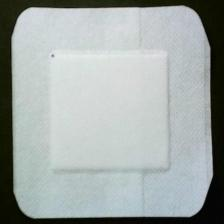Dressing: (10, 6, 217, 221)
F_Body: (45, 48, 68, 69)
